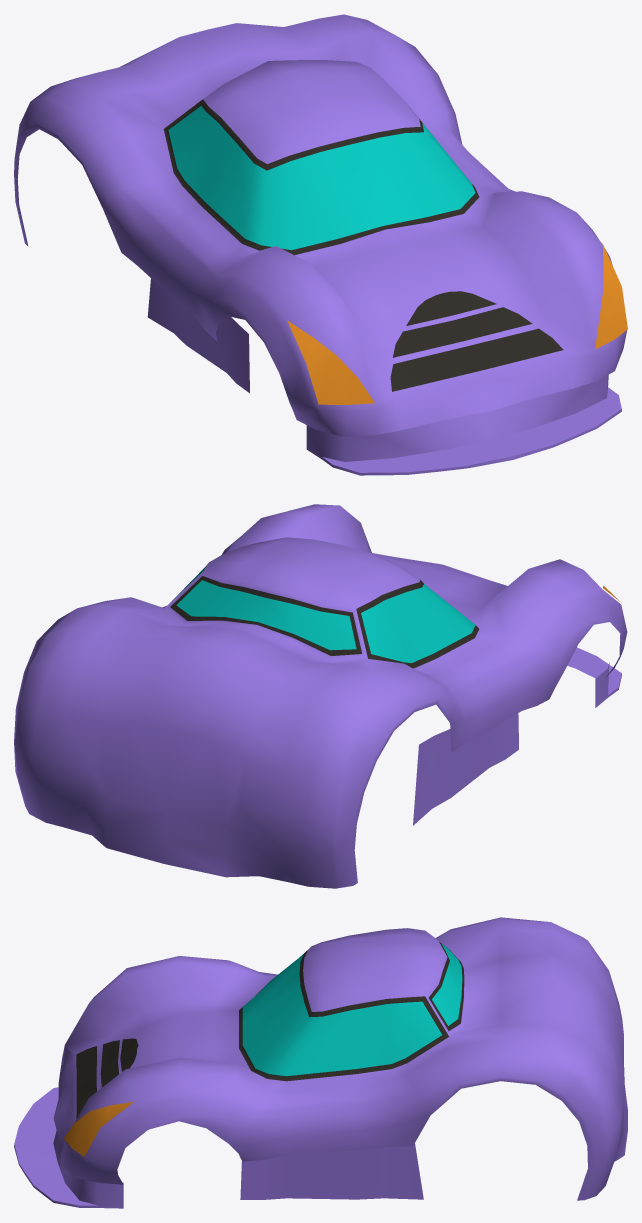
File: LuxCasing01C01.gltf
3 renders of one model, top to bottom at view 1: azimuth 30°, elevation 25°; view 2: azimuth 150°, elevation 25°; view 3: azimuth 270°, elevation 25°, orthographic. The views are drawn at different scales.
Parts seen in each view (by area): view 1: LuxCasing01C01; view 2: LuxCasing01C01; view 3: LuxCasing01C01.
Part boxes in pixels (box(x1,y1,x2,y2)): LuxCasing01C01: box(14, 14, 627, 475); LuxCasing01C01: box(14, 504, 627, 888); LuxCasing01C01: box(14, 917, 627, 1208).
Size of the model in its own units: 0.2129 by 0.1281 by 0.3597.
